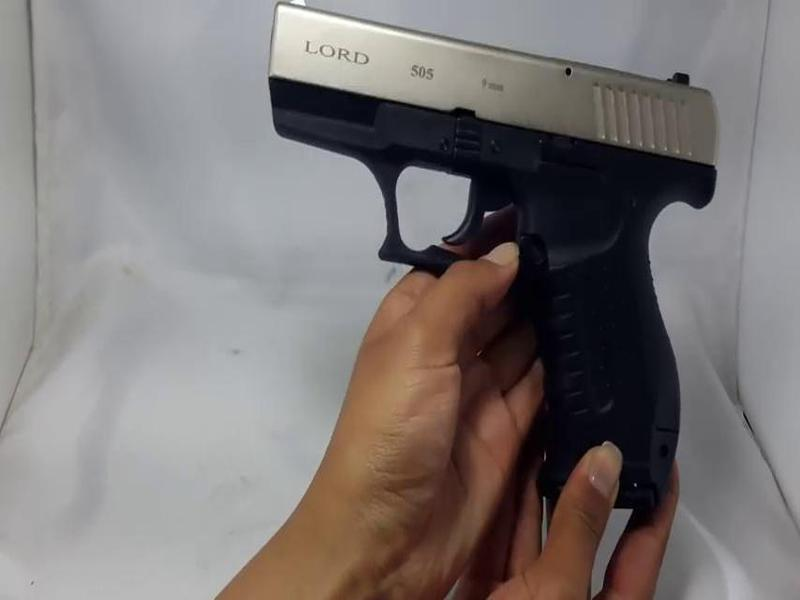Pistola: (155, 1, 756, 502)
